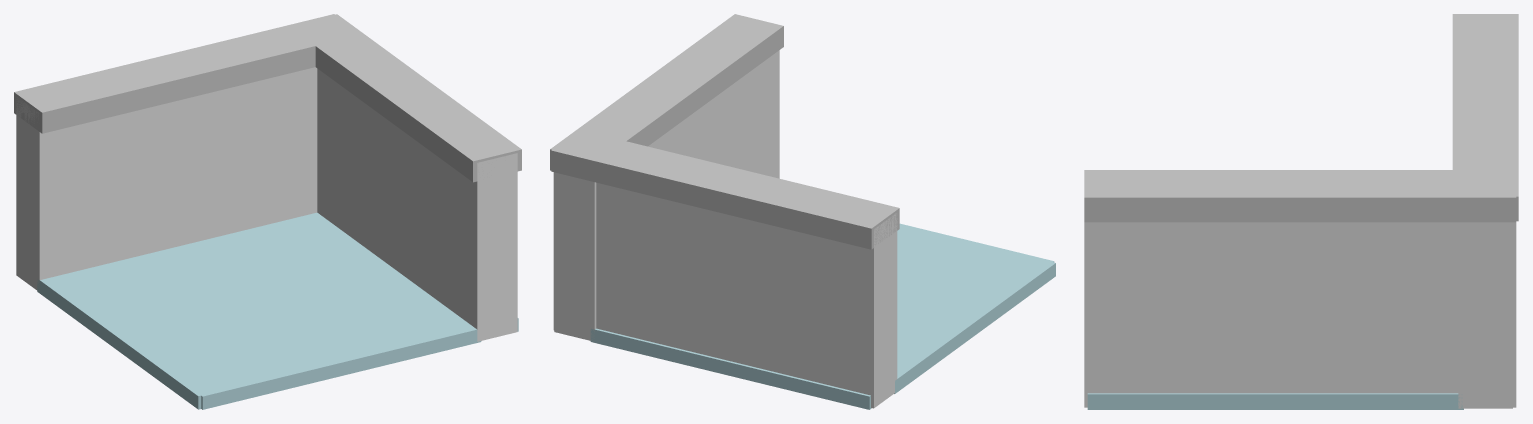
The model's file is props8.fbx.
3 views of the same model, side by side, from view 1: azimuth 30°, elevation 25°; view 2: azimuth 150°, elevation 25°; view 3: azimuth 270°, elevation 25° (orthographic). The views are drawn at different scales.
Visible parts, largest first — view 1: Cube_2_1; view 2: Cube_2_1; view 3: Cube_2_1.
Part boxes in pixels (bbox=[...]): Cube_2_1: bbox=[14, 14, 521, 409]; Cube_2_1: bbox=[550, 14, 1055, 409]; Cube_2_1: bbox=[1084, 14, 1518, 409].
Bounding box in the file's own units: 716 × 388 × 715.
